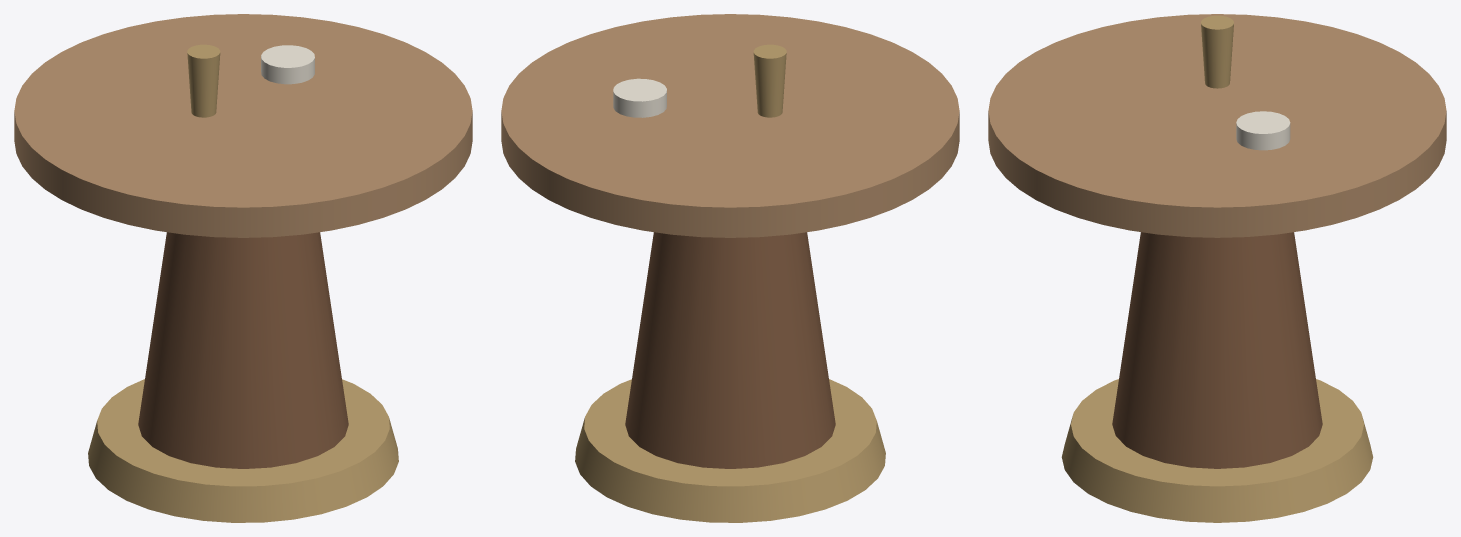
Rendered from table-4-1.glb.
3 views of the same model, side by side, from view 1: azimuth 30°, elevation 25°; view 2: azimuth 150°, elevation 25°; view 3: azimuth 270°, elevation 25° (orthographic).
Parts seen in each view (by area): view 1: part (×4); view 2: part (×4); view 3: part (×4).
Boxes of the visible parts, x1,y1,x2,y2 form: part (×4): (14,14,472,522); part (×4): (501,14,959,522); part (×4): (988,14,1446,522).
Size of the model in its own units: 1 by 1 by 1.
